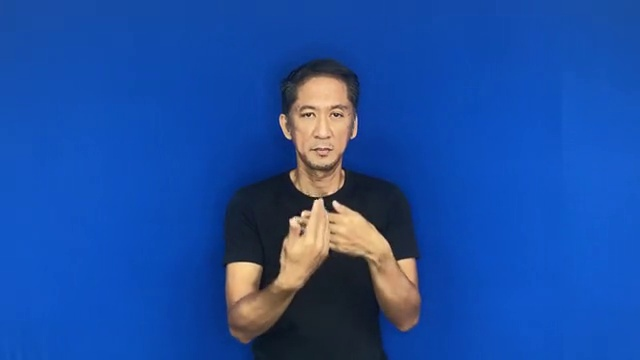bread: (275, 189, 385, 287)
